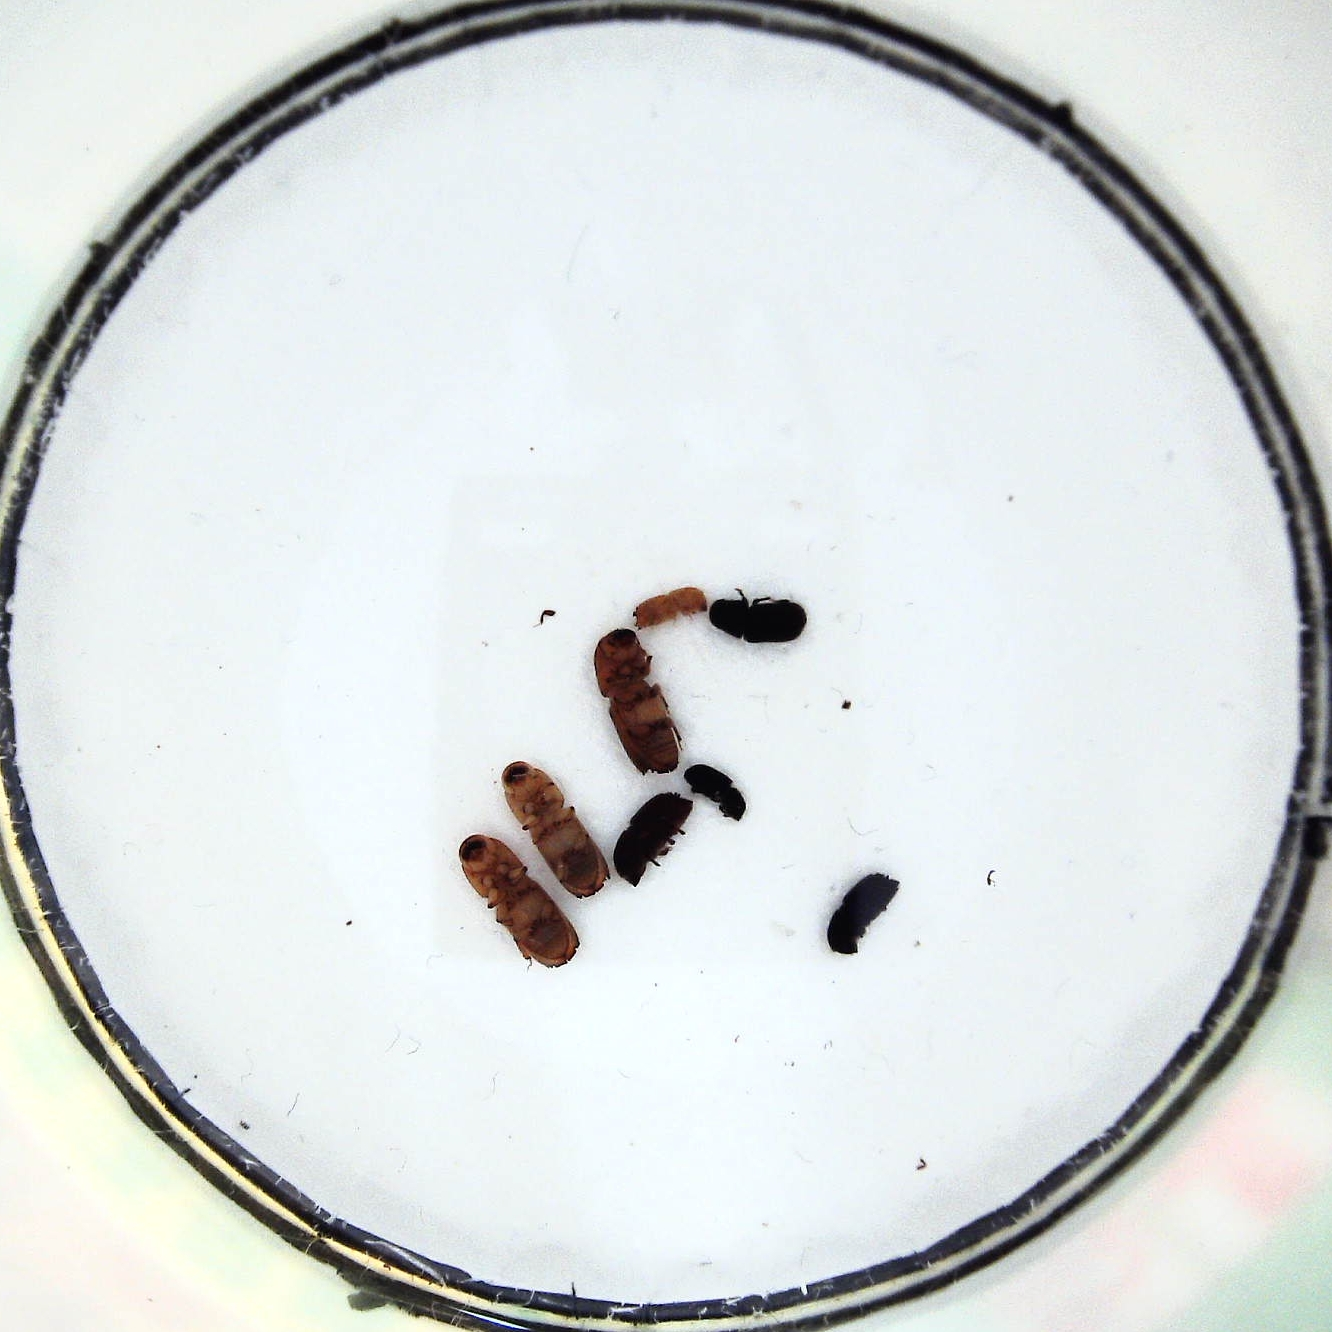Boerner: (459, 834, 579, 970), (500, 760, 610, 898), (592, 628, 682, 776)
Linnaeus: (611, 793, 696, 888), (825, 872, 901, 955)
acuminatus: (631, 585, 709, 631)
armandi: (709, 589, 809, 642)
coleoptera: (683, 762, 748, 822)
